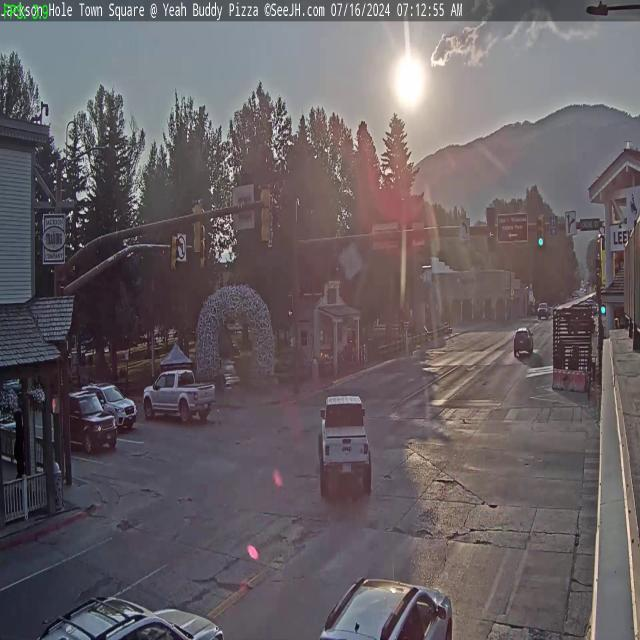pickup: (317, 390, 373, 498), (144, 365, 215, 420)
suv: (310, 567, 464, 640), (25, 586, 232, 640), (48, 390, 118, 453), (92, 380, 136, 440), (512, 326, 533, 355)
traffic light: (260, 184, 274, 244), (190, 198, 204, 254), (486, 207, 496, 248), (170, 234, 180, 272), (536, 215, 546, 248)
